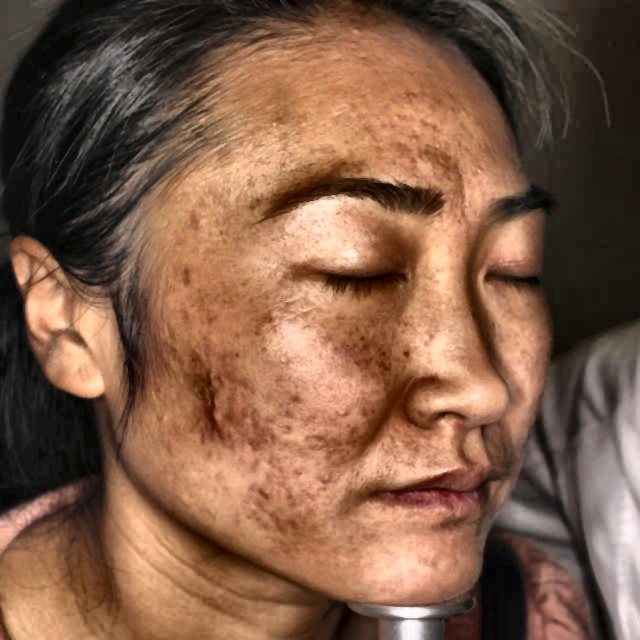pustule: (197, 390, 229, 431), (191, 367, 246, 390), (305, 462, 347, 492), (242, 426, 276, 461), (394, 84, 424, 118), (248, 478, 274, 506), (183, 262, 204, 285), (164, 441, 183, 459)
